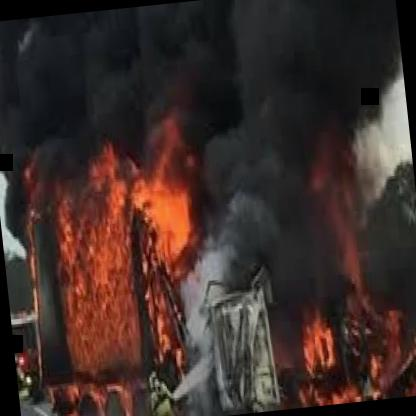fire: (177, 166, 393, 404), (30, 141, 191, 416), (14, 6, 217, 152), (226, 0, 374, 157)
